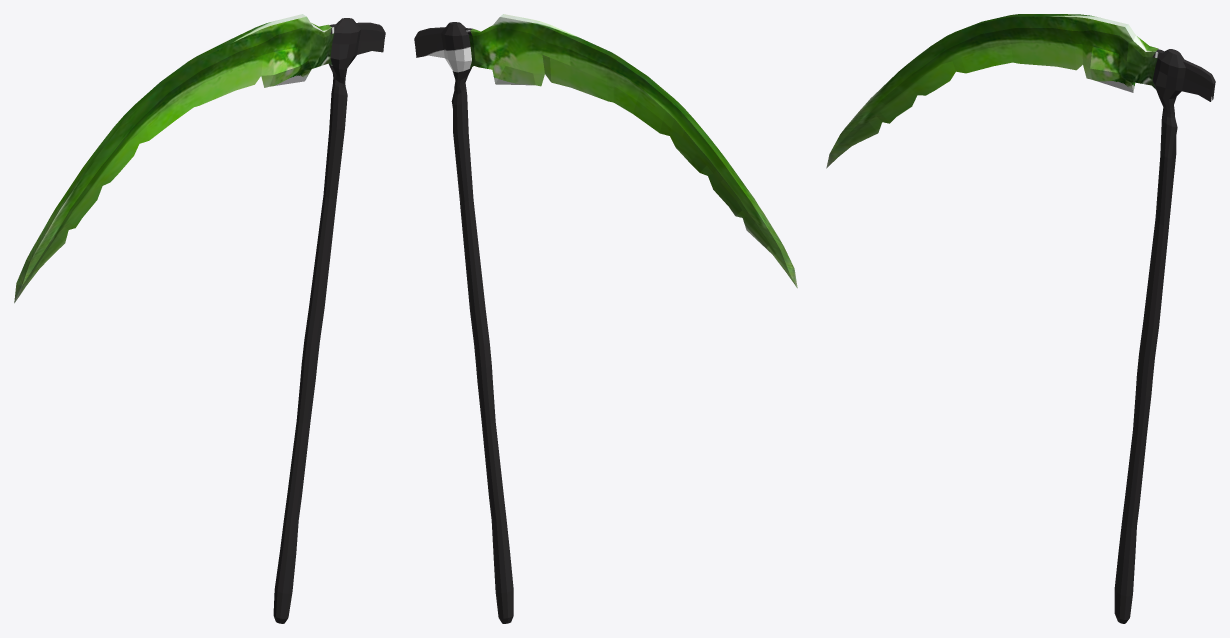
The model's file is scythe.glb.
3 views of the same model, side by side, from view 1: azimuth 30°, elevation 25°; view 2: azimuth 150°, elevation 25°; view 3: azimuth 330°, elevation 25° (orthographic). The views are drawn at different scales.
Visible parts, largest first — view 1: Scythe 2; view 2: Scythe 2; view 3: Scythe 2.
Boxes of the visible parts, box(x1,y1,x2,y2) form: Scythe 2: box(14, 14, 385, 623); Scythe 2: box(414, 14, 797, 623); Scythe 2: box(826, 14, 1215, 623).
Size of the model in its own units: 3.35 by 5.15 by 0.3245.
Materials: 1 (1 with a texture image).
